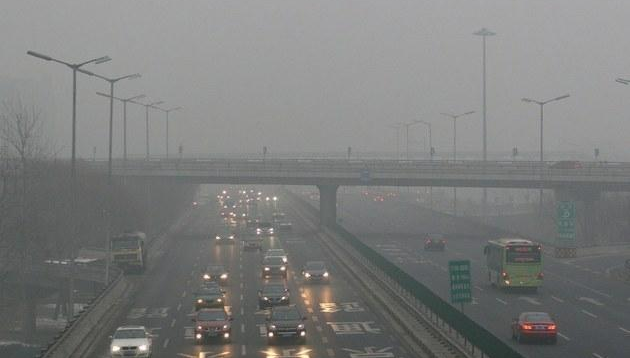bus: (482, 236, 545, 294), (109, 231, 148, 276)
car: (264, 305, 309, 345), (510, 311, 559, 346), (190, 308, 234, 346), (108, 324, 153, 358), (191, 283, 227, 312), (257, 281, 290, 309), (200, 263, 231, 288), (302, 260, 330, 285), (260, 256, 288, 279), (282, 232, 307, 254), (262, 248, 289, 267), (215, 226, 237, 245), (424, 234, 447, 252)
